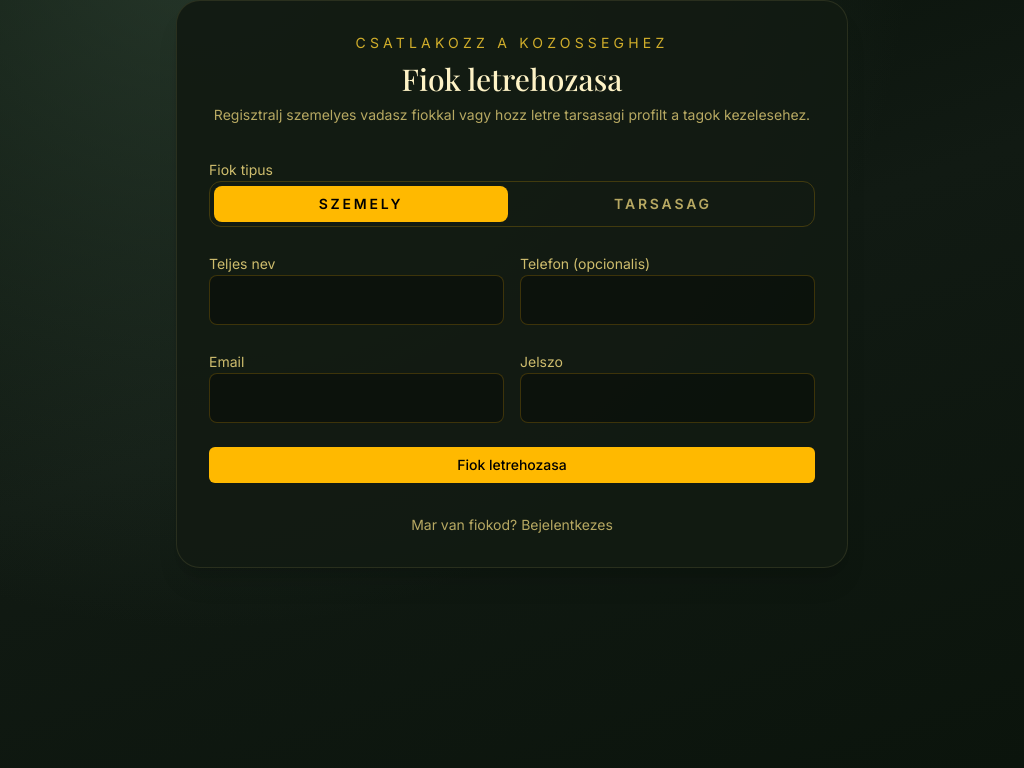
Test: RegisterPage Component › displays error message when registration fails
Type "John" into the field labelled "Teljes nev". click: [356, 300]
box: left=209, top=275, right=504, bottom=325
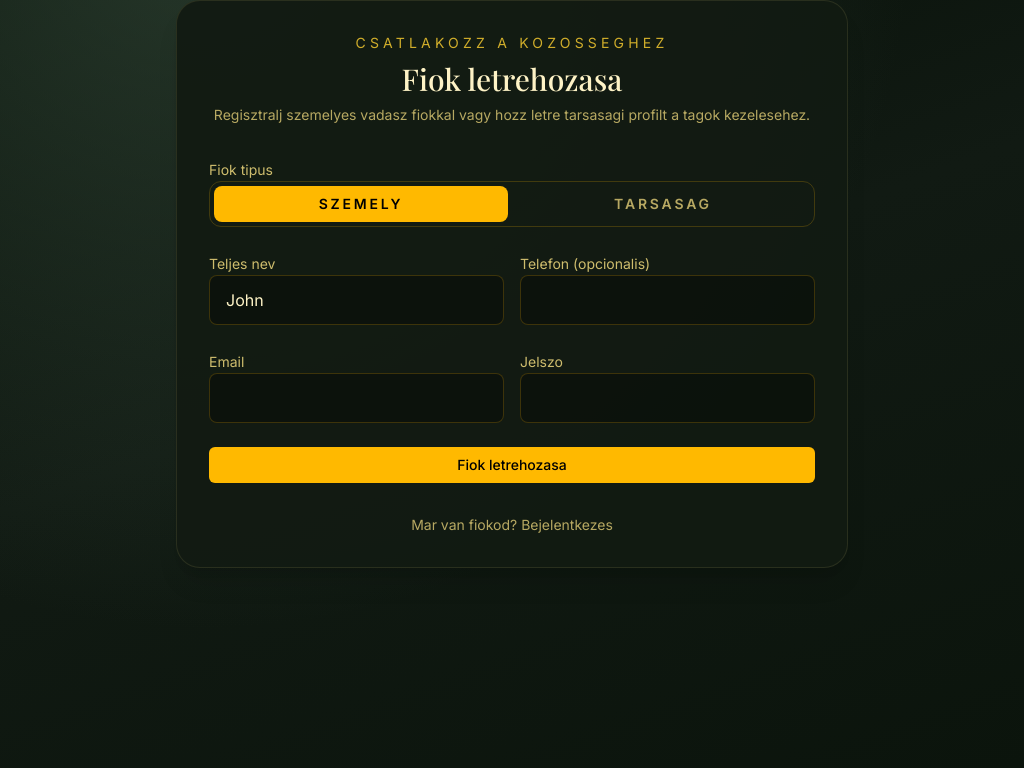
Type "test@example.com" into the field labelled "Email". click: [356, 398]
box: left=209, top=373, right=504, bottom=423
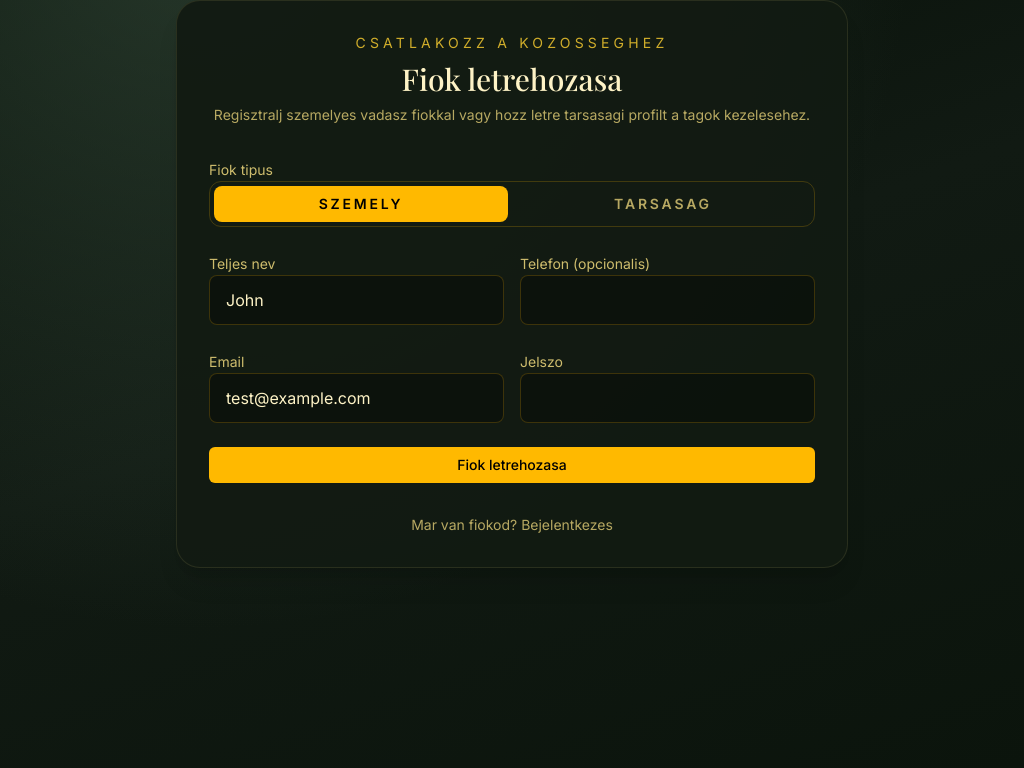
Type "pass" into the password field labelled "Jelszo". click: [668, 398]
box: left=520, top=373, right=815, bottom=423
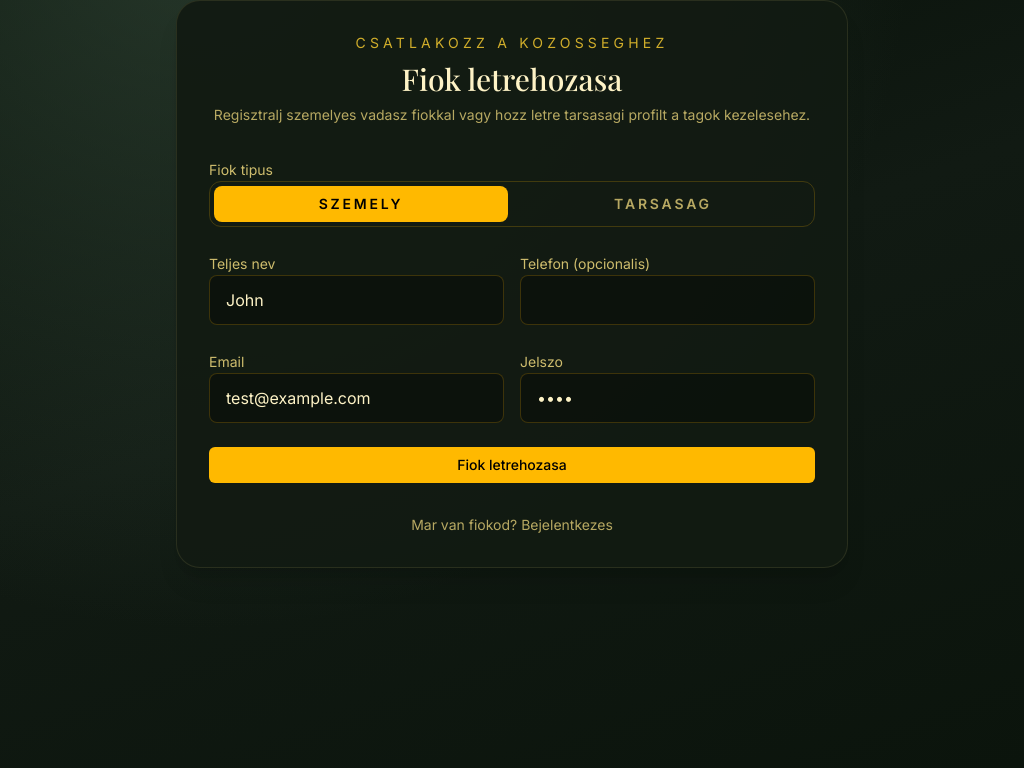
Click the submit button. click: [512, 465]
box: left=209, top=447, right=815, bottom=483
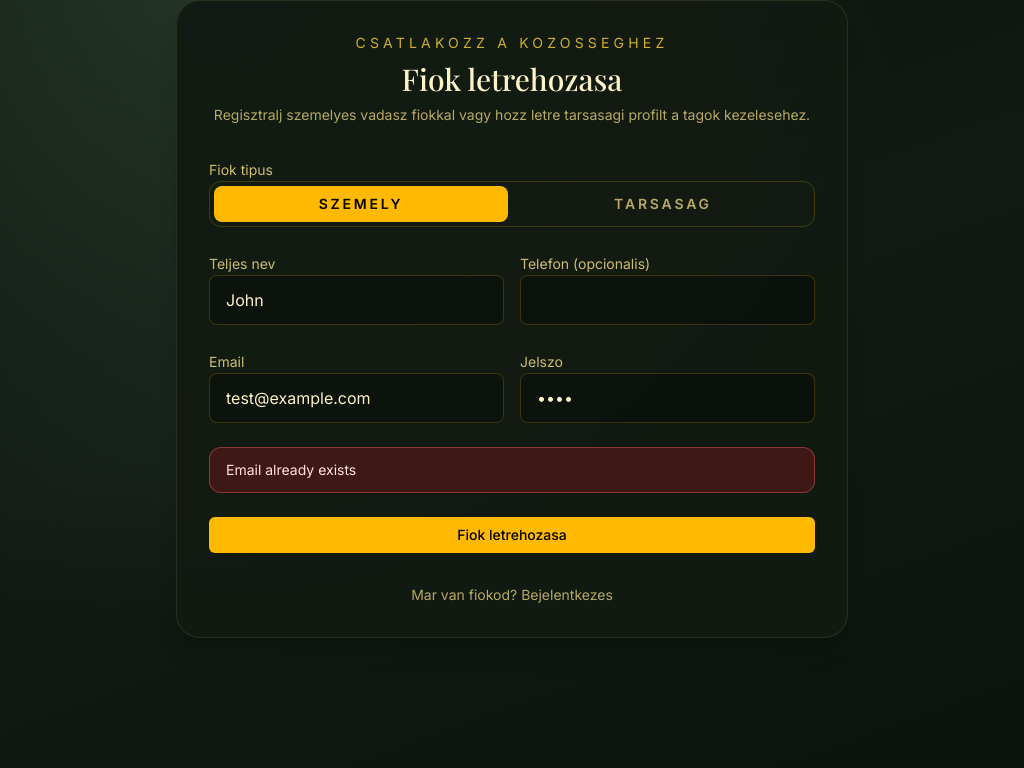
Expected: the text "Email already exists" is shown, left=209, top=447, right=815, bottom=493
